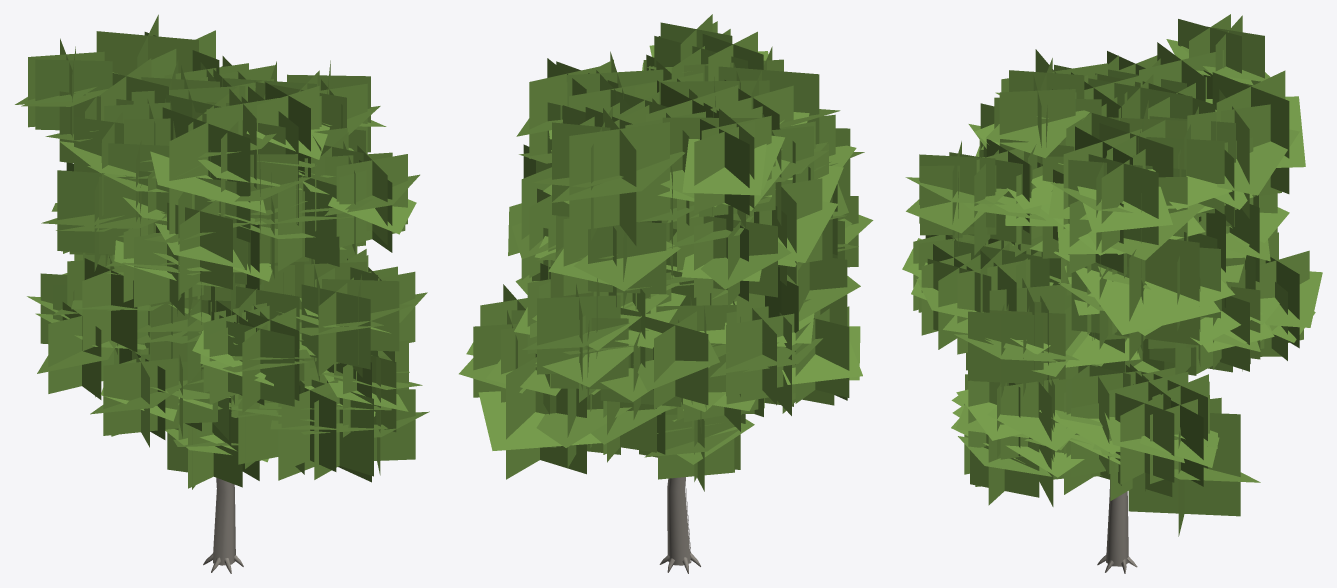
File: tilleul_1_jeu.glb
3 renders of one model, left to right at view 1: azimuth 30°, elevation 25°; view 2: azimuth 150°, elevation 25°; view 3: azimuth 270°, elevation 25°, orthographic. The views are drawn at different scales.
Visible parts, largest first — view 1: Tilleul_T1_Leger; view 2: Tilleul_T1_Leger; view 3: Tilleul_T1_Leger.
Boxes of the visible parts, x1,y1,x2,y2 form: Tilleul_T1_Leger: (15,14,429,573); Tilleul_T1_Leger: (459,14,873,573); Tilleul_T1_Leger: (902,14,1322,573).
Bounding box in the file's own units: 5.13 × 6.63 × 5.16.
